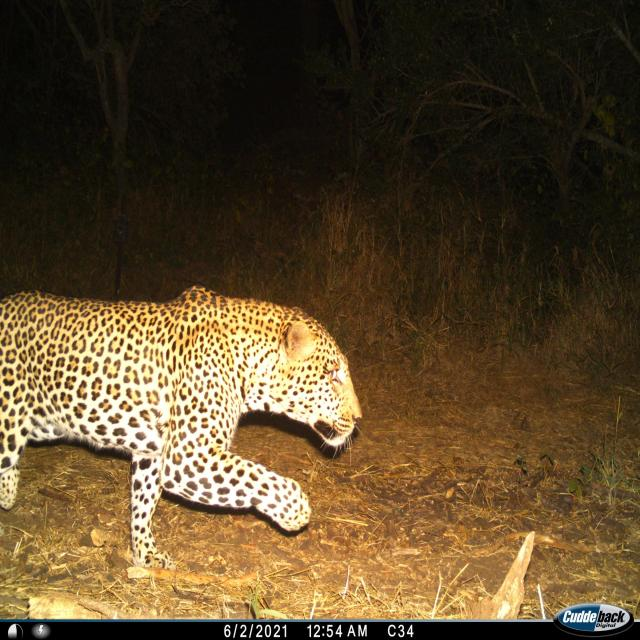Leopard: (0, 275, 361, 581)
